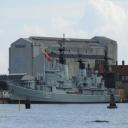Fragata: (8, 59, 123, 107)
